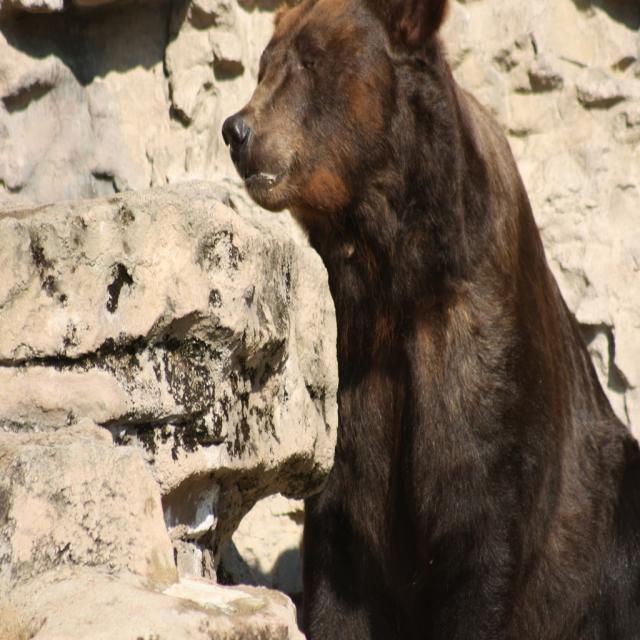Cheetahs: (219, 0, 639, 639)
